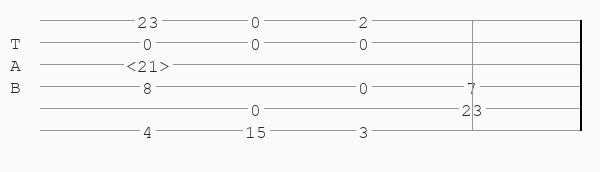0: (142, 35, 157, 50), (250, 13, 265, 28), (250, 35, 265, 50), (250, 101, 265, 116), (358, 79, 373, 94), (358, 35, 373, 50)
15: (245, 123, 271, 138)
2: (358, 13, 373, 28)
23: (137, 13, 163, 28), (461, 101, 487, 116)
3: (358, 123, 373, 138)
4: (142, 123, 157, 138)
7: (466, 79, 481, 94)
8: (142, 79, 157, 94)
harmonic: (126, 57, 174, 72)
